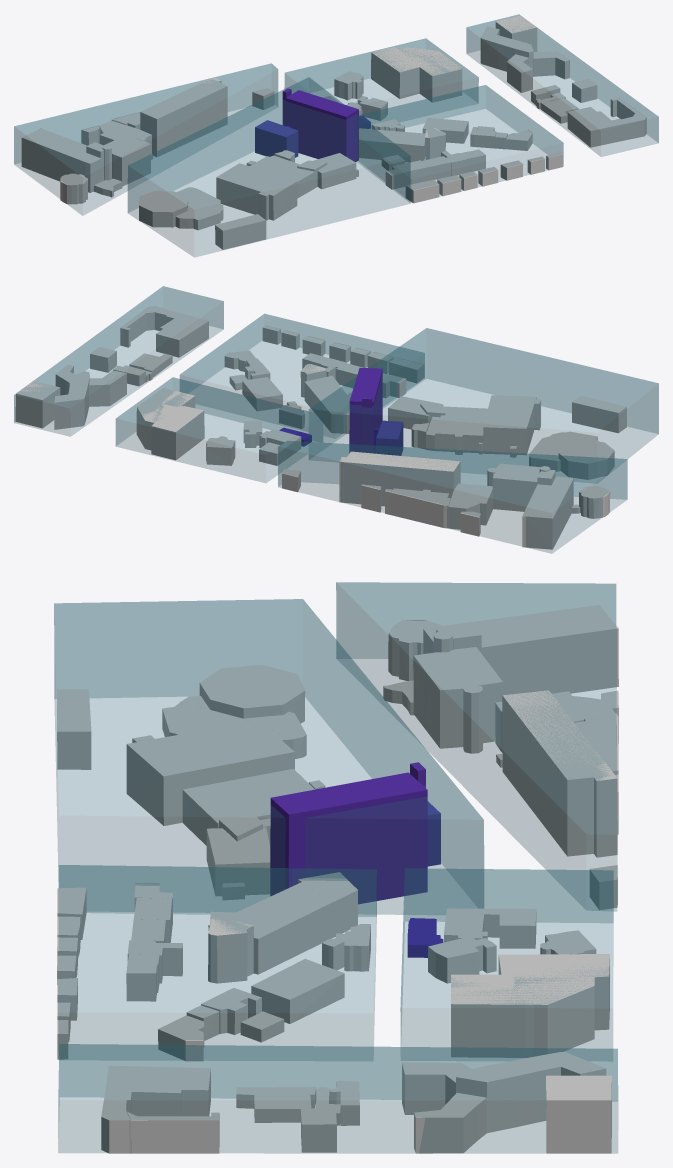
Rendered from mymap5final.obj.
3 views of the same model, one above another, from view 1: azimuth 30°, elevation 25°; view 2: azimuth 150°, elevation 25°; view 3: azimuth 270°, elevation 25° (orthographic). The views are drawn at different scales.
Parts seen in each view (by area): view 1: 5_Cube.232, 4_Cube.080, 3_Cube.034, 1_Cube.233, 2_Cube.033, DO_Cube.032, BC_Cube.231, ER_Cube.012, EH_Cube.019, DF_Cube.007, AK_Cube.089, CI_Cube.016 (+31 smaller); view 2: 5_Cube.232, 4_Cube.080, 1_Cube.233, 2_Cube.033, 3_Cube.034, DO_Cube.032, BC_Cube.231, DF_Cube.007, EH_Cube.019, AK_Cube.089, EI_Cube.020, ER_Cube.012 (+33 smaller); view 3: 5_Cube.232, 4_Cube.080, 3_Cube.034, 1_Cube.233, 2_Cube.033, ER_Cube.012, BC_Cube.231, DO_Cube.032, DF_Cube.007, EH_Cube.019, AK_Cube.089, DI_Cube.001 (+38 smaller).
Boxes of the visible parts, <box> form: 5_Cube.232: <box>127,77,410,257</box>; 4_Cube.080: <box>14,63,278,215</box>; 3_Cube.034: <box>359,85,563,202</box>; 1_Cube.233: <box>466,14,658,156</box>; 2_Cube.033: <box>284,38,478,114</box>; DO_Cube.032: <box>140,78,227,156</box>; BC_Cube.231: <box>371,47,462,102</box>; ER_Cube.012: <box>285,90,358,162</box>; EH_Cube.019: <box>216,163,297,220</box>; DF_Cube.007: <box>21,128,101,192</box>; AK_Cube.089: <box>567,107,646,147</box>; CI_Cube.016: <box>359,129,425,162</box>; 5_Cube.232: <box>308,328,658,459</box>; 4_Cube.080: <box>278,440,627,553</box>; 1_Cube.233: <box>14,286,223,436</box>; 2_Cube.033: <box>115,377,323,482</box>; 3_Cube.034: <box>179,313,424,410</box>; DO_Cube.032: <box>343,451,460,506</box>; BC_Cube.231: <box>136,388,204,460</box>; DF_Cube.007: <box>522,476,573,549</box>; EH_Cube.019: <box>483,395,536,454</box>; AK_Cube.089: <box>144,306,208,357</box>; EI_Cube.020: <box>435,406,487,452</box>; ER_Cube.012: <box>349,367,382,453</box>; 5_Cube.232: <box>54,599,484,914</box>; 4_Cube.080: <box>336,582,617,911</box>; 3_Cube.034: <box>58,865,376,1052</box>; 1_Cube.233: <box>58,1044,618,1153</box>; 2_Cube.033: <box>400,868,613,1048</box>; ER_Cube.012: <box>270,772,427,903</box>; BC_Cube.231: <box>451,954,609,1057</box>; DO_Cube.032: <box>502,690,614,856</box>; DF_Cube.007: <box>423,605,618,695</box>; EH_Cube.019: <box>126,720,294,825</box>; AK_Cube.089: <box>101,1065,210,1153</box>; DI_Cube.001: <box>413,647,502,748</box>.
Bounding box in the file's own units: 9.99 × 1.05 × 4.81.
